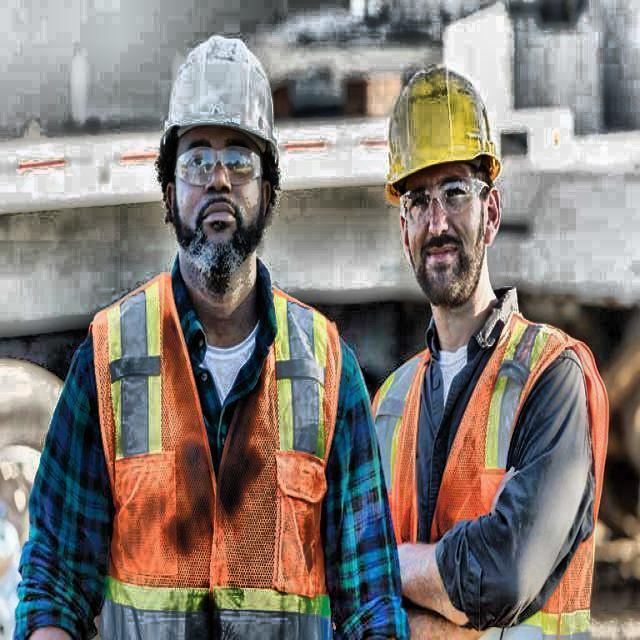safety_jacket: (91, 273, 342, 640), (373, 314, 612, 640)
